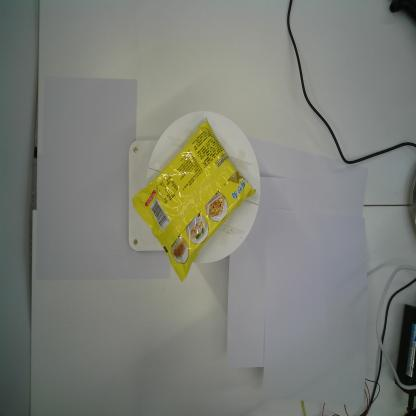Instant Noodles: (132, 116, 256, 284)
